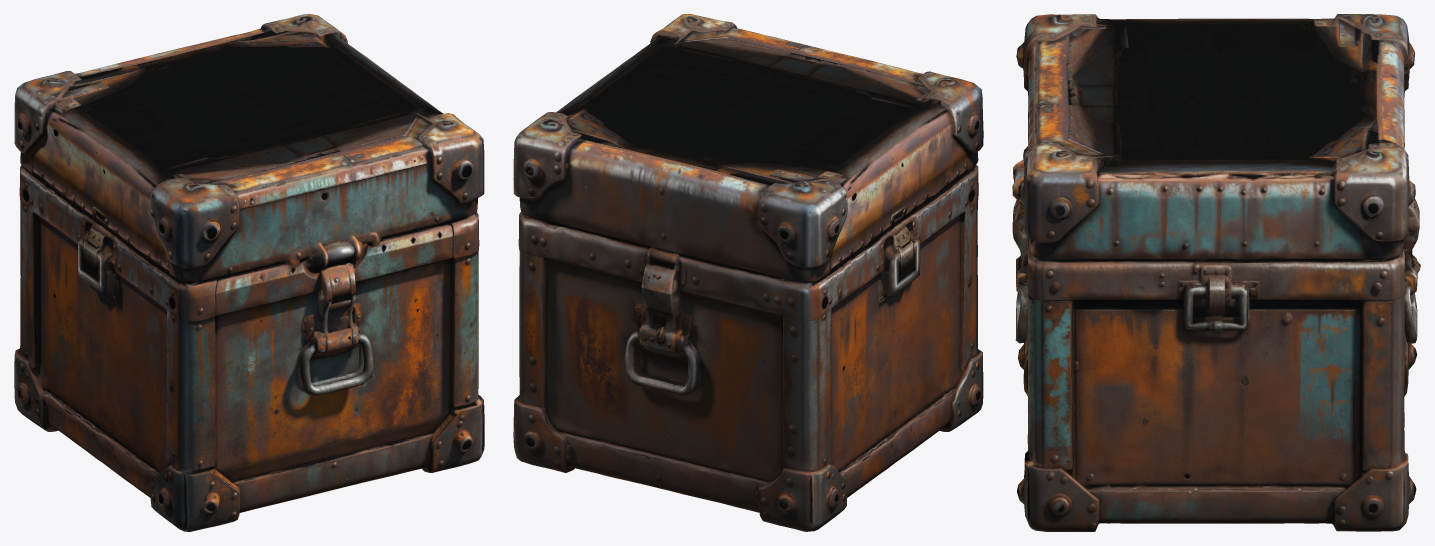
File: Chest.fbx
3 renders of one model, left to right at view 1: azimuth 30°, elevation 25°; view 2: azimuth 150°, elevation 25°; view 3: azimuth 270°, elevation 25°, orthographic. The views are drawn at different scales.
Parts seen in each view (by area): view 1: Mesh_0; view 2: Mesh_0; view 3: Mesh_0.
Part boxes in pixels (<box>): Mesh_0: <box>14,14,484,531</box>; Mesh_0: <box>513,14,983,531</box>; Mesh_0: <box>1012,14,1420,531</box>.
Bounding box in the file's own units: 197 × 202 × 198.
Materials: 1 (1 with a texture image).
